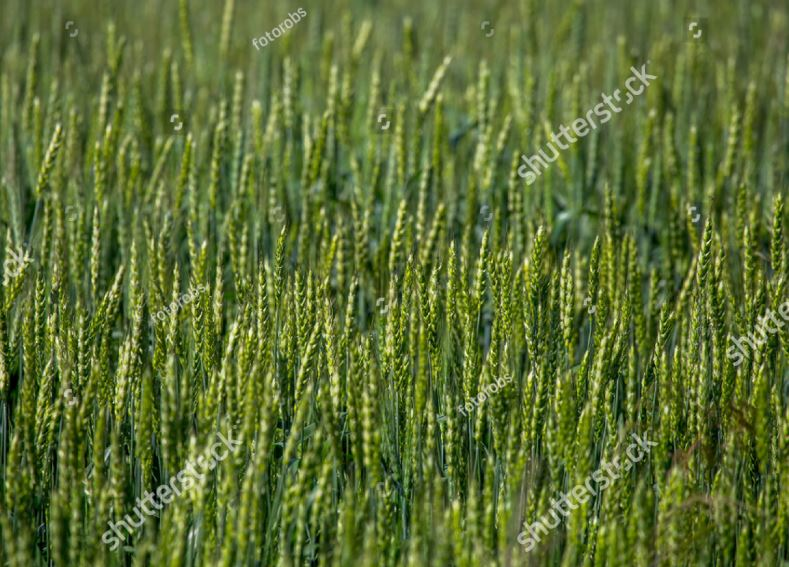Wheat: (142, 213, 664, 469)
